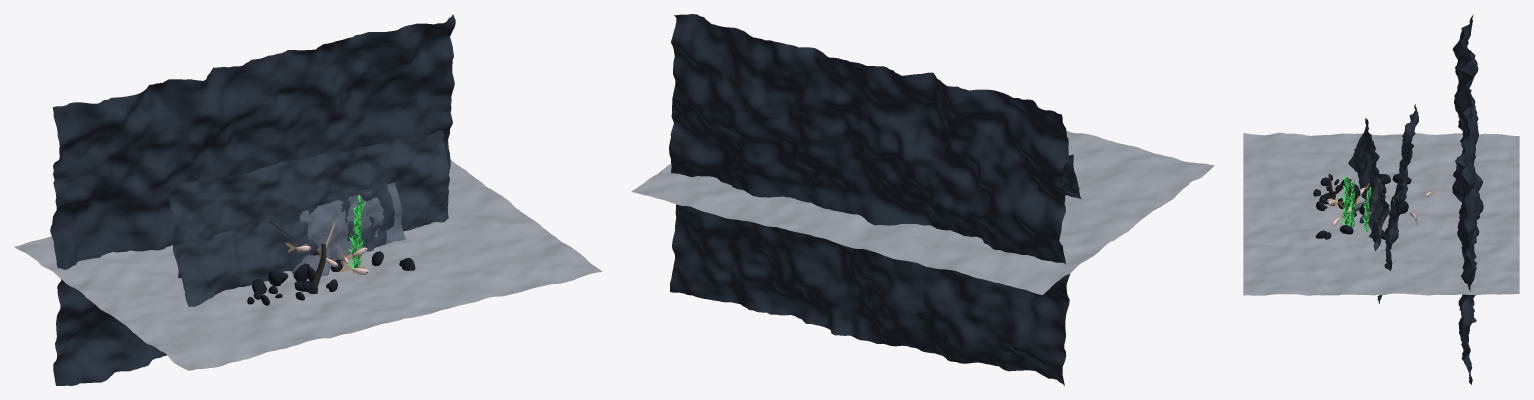
The picture shows the model from 3 angles, left to right: view 1: azimuth 30°, elevation 25°; view 2: azimuth 150°, elevation 25°; view 3: azimuth 270°, elevation 25°; orthographic projection. The views are drawn at different scales.
Visible parts, largest first — view 1: RockWall_Back.001, Substrate.001, RockRidge_Mid.001, RockRidge_Low.001, RockSlab_Pale.001; view 2: RockWall_Back.001, Substrate.001, RockRidge_Low.001; view 3: Substrate.001, RockWall_Back.001, RockRidge_Low.001, RockRidge_Mid.001, RockSlab_Pale.001, Plant_Main.001.
Boxes of the visible parts, box(x1,y1,x2,y2) form: RockWall_Back.001: box(50, 14, 455, 385); Substrate.001: box(14, 159, 602, 370); RockRidge_Mid.001: box(169, 130, 449, 278); RockRidge_Low.001: box(176, 182, 394, 306); RockSlab_Pale.001: box(299, 182, 405, 258); RockWall_Back.001: box(669, 14, 1070, 385); Substrate.001: box(631, 131, 1214, 294); RockRidge_Low.001: box(1062, 154, 1081, 198); Substrate.001: box(1243, 132, 1519, 295); RockWall_Back.001: box(1452, 14, 1483, 384); RockRidge_Low.001: box(1348, 118, 1389, 243); RockRidge_Mid.001: box(1377, 104, 1418, 303); RockSlab_Pale.001: box(1368, 174, 1389, 251); Plant_Main.001: box(1342, 176, 1349, 224).
Bounding box in the file's own units: 4.4 × 2.8 × 3.2.
